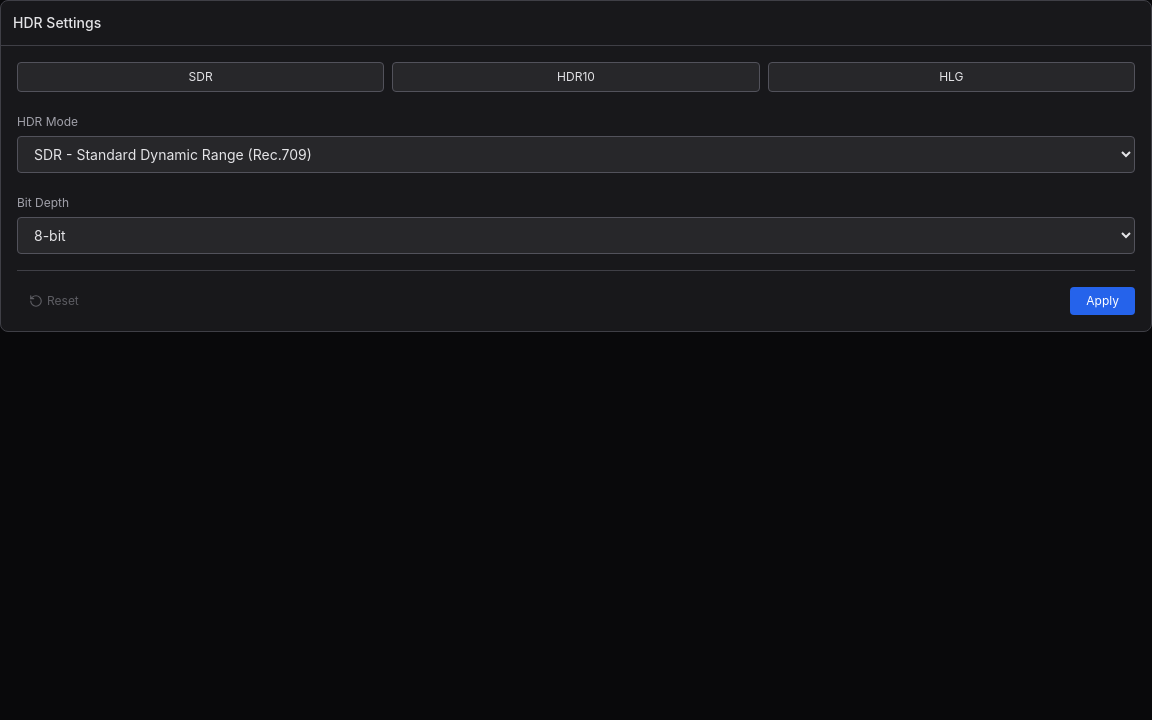
it: HDRSettingsPanel › presets › should apply SDR preset
First set to HDR10
What coordinates should you click on to do the following:
click the button with aria-label "hdr10 preset"
I would click on:
 (576, 77)
Its box is [392,62,760,92].
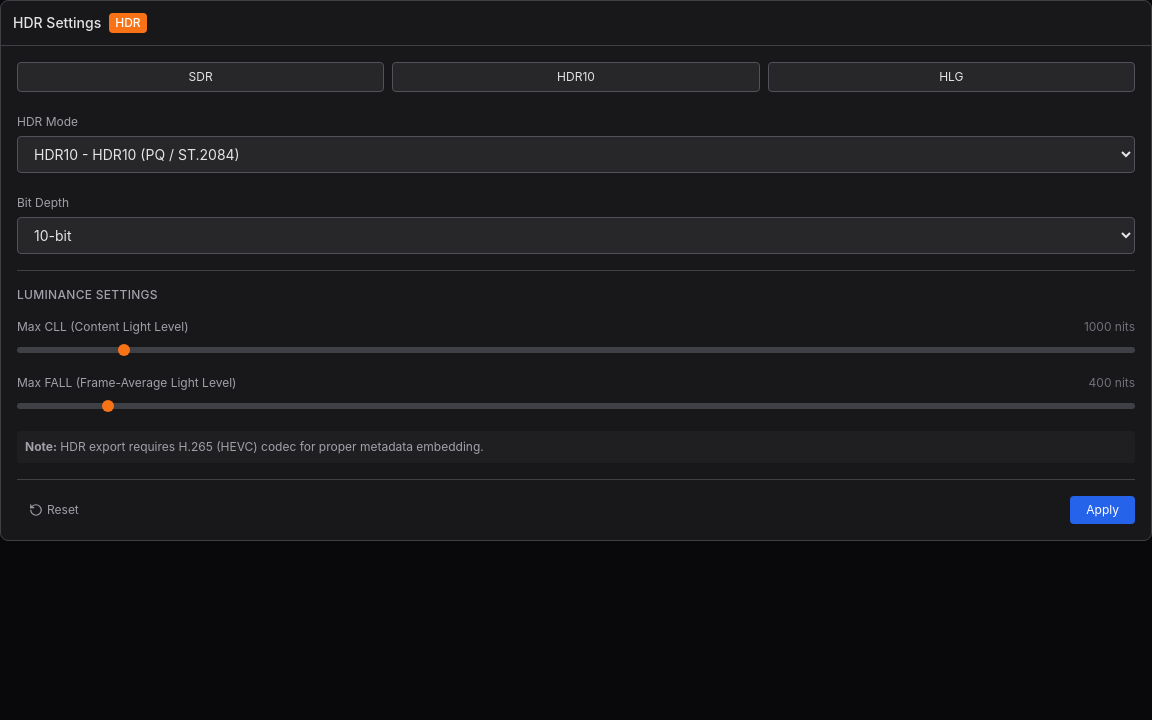
Now the dropdown labelled "HDR Mode" shows "HDR10 - HDR10 (PQ / ST.2084)", box [17,136,1135,173]
Then apply SDR preset
What coordinates should you click on to do the following:
click the button with aria-label "sdr preset"
I would click on:
 (201, 77)
Its box is [17,62,384,92].
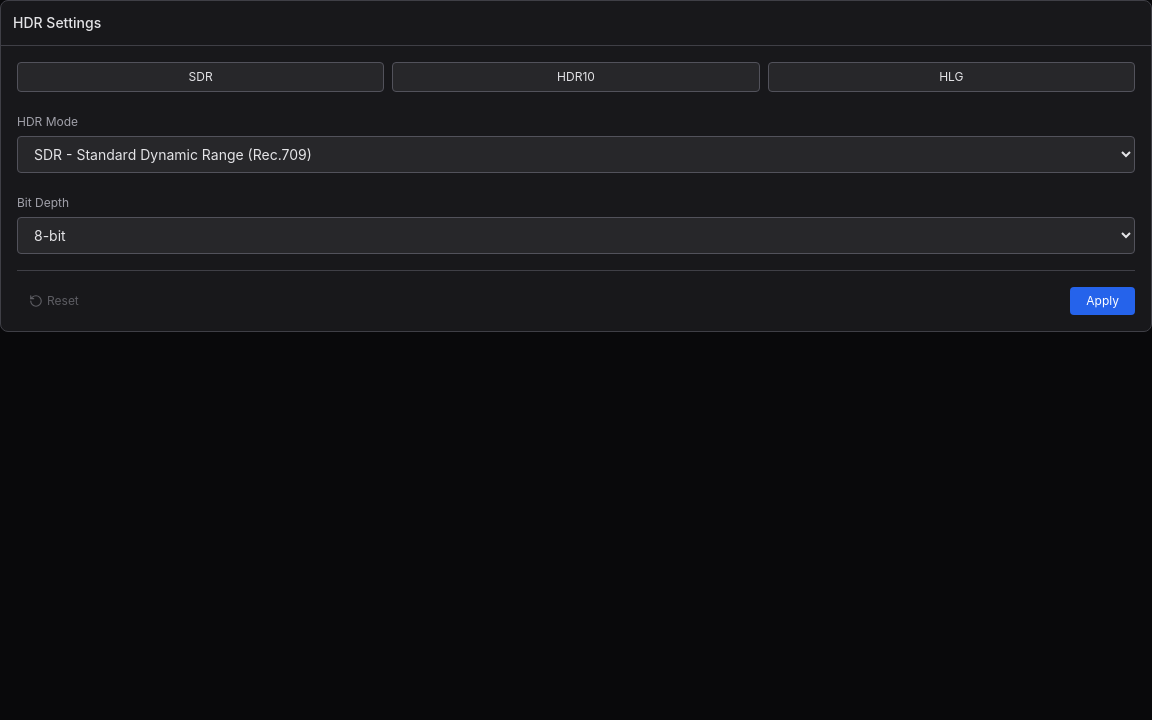
Now the dropdown labelled "HDR Mode" shows "SDR - Standard Dynamic Range (Rec.709)", box [17,136,1135,173]
